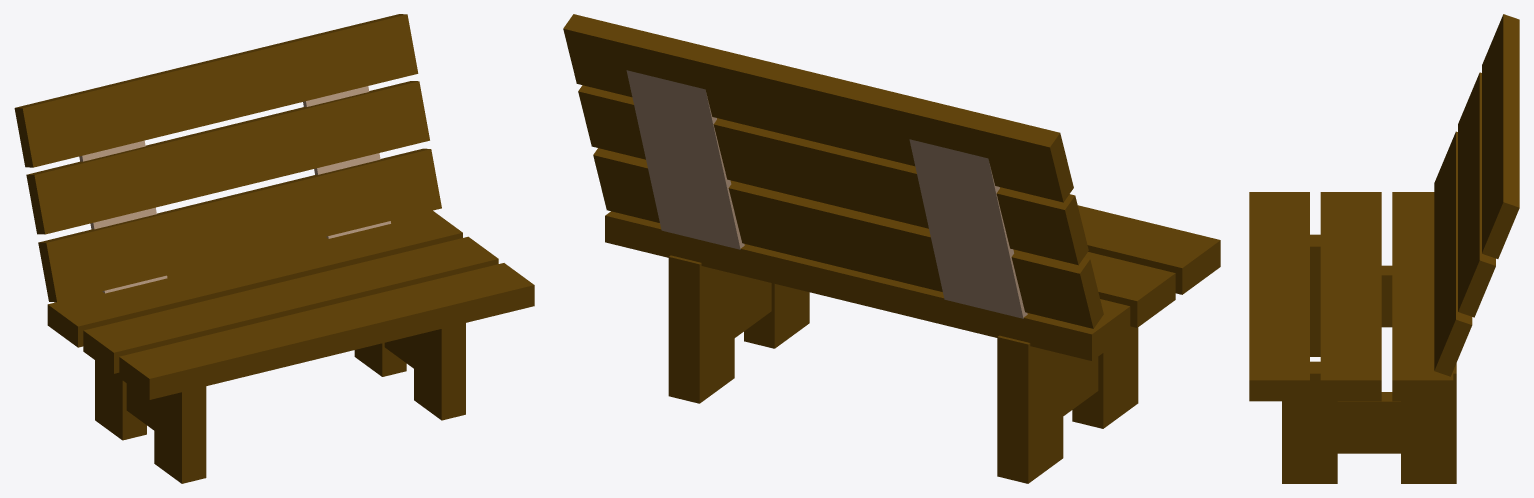
File: 3D bench model.fbx
3 views of the same model, side by side, from view 1: azimuth 30°, elevation 25°; view 2: azimuth 150°, elevation 25°; view 3: azimuth 270°, elevation 25° (orthographic). The views are drawn at different scales.
Visible parts, largest first — view 1: polySurface28, polySurface25, polySurface17, polySurface19, polySurface23, polySurface24, polySurface20, polySurface27, polySurface18, polySurface22, polySurface30, polySurface29 (+2 smaller); view 2: polySurface28, polySurface25, polySurface17, polySurface24, polySurface30, polySurface22, polySurface29, polySurface18, polySurface19, polySurface23, polySurface20, polySurface27 (+2 smaller); view 3: polySurface23, polySurface19, polySurface24, polySurface28, polySurface25, polySurface17, polySurface27, polySurface29, polySurface26, polySurface20, polySurface21.
Boxes of the visible parts, bbox=[...] form: polySurface28: bbox=[14, 14, 418, 167]; polySurface25: bbox=[38, 148, 441, 302]; polySurface17: bbox=[26, 81, 429, 234]; polySurface19: bbox=[119, 263, 534, 399]; polySurface23: bbox=[83, 236, 498, 373]; polySurface24: bbox=[47, 210, 462, 347]; polySurface20: bbox=[154, 386, 206, 483]; polySurface27: bbox=[414, 323, 465, 420]; polySurface18: bbox=[95, 360, 146, 440]; polySurface22: bbox=[79, 140, 167, 293]; polySurface30: bbox=[303, 86, 390, 238]; polySurface29: bbox=[354, 343, 406, 376]; polySurface28: bbox=[563, 14, 1073, 202]; polySurface25: bbox=[593, 148, 1103, 328]; polySurface17: bbox=[578, 85, 1088, 265]; polySurface24: bbox=[605, 211, 1130, 360]; polySurface30: bbox=[626, 70, 744, 249]; polySurface22: bbox=[909, 139, 1027, 318]; polySurface29: bbox=[668, 255, 734, 403]; polySurface18: bbox=[997, 335, 1063, 483]; polySurface19: bbox=[1078, 205, 1220, 294]; polySurface23: bbox=[1084, 252, 1175, 327]; polySurface20: bbox=[1072, 326, 1138, 428]; polySurface27: bbox=[744, 283, 809, 348]; polySurface23: bbox=[1320, 192, 1381, 401]; polySurface19: bbox=[1249, 192, 1309, 401]; polySurface24: bbox=[1392, 192, 1453, 401]; polySurface28: bbox=[1482, 14, 1519, 258]; polySurface25: bbox=[1434, 131, 1472, 376]; polySurface17: bbox=[1458, 72, 1495, 317]; polySurface27: bbox=[1282, 361, 1337, 483]; polySurface29: bbox=[1401, 363, 1456, 483]; polySurface26: bbox=[1337, 392, 1400, 453]; polySurface20: bbox=[1310, 234, 1320, 356]; polySurface21: bbox=[1381, 265, 1392, 327].
Size of the model in its own units: 6.16 by 4.69 by 3.74.
